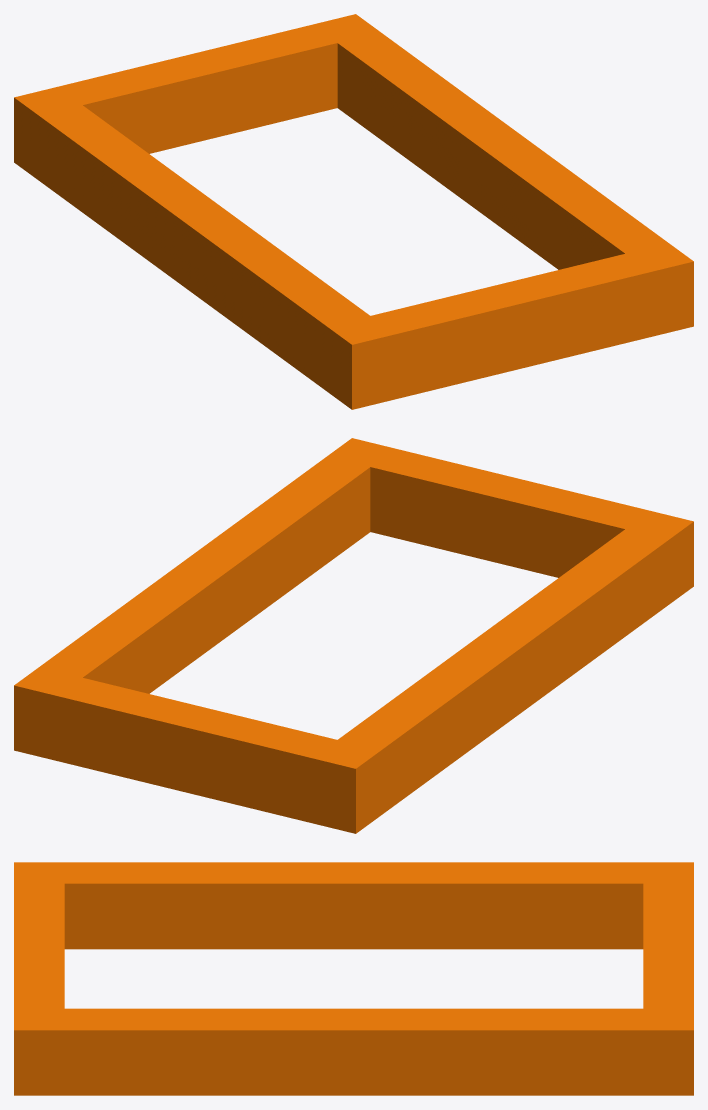
The model's file is V5_Sample Clamp.obj.
3 renders of one model, top to bottom at view 1: azimuth 30°, elevation 25°; view 2: azimuth 150°, elevation 25°; view 3: azimuth 270°, elevation 25°, orthographic.
Visible parts, largest first — view 1: Solid1:37; view 2: Solid1:37; view 3: Solid1:37.
Boxes of the visible parts, x1=… form: Solid1:37: x1=14, y1=14, x2=693, y2=409; Solid1:37: x1=14, y1=438, x2=693, y2=833; Solid1:37: x1=14, y1=862, x2=693, y2=1095.
Size of the model in its own units: 27.5 by 5 by 47.1.
